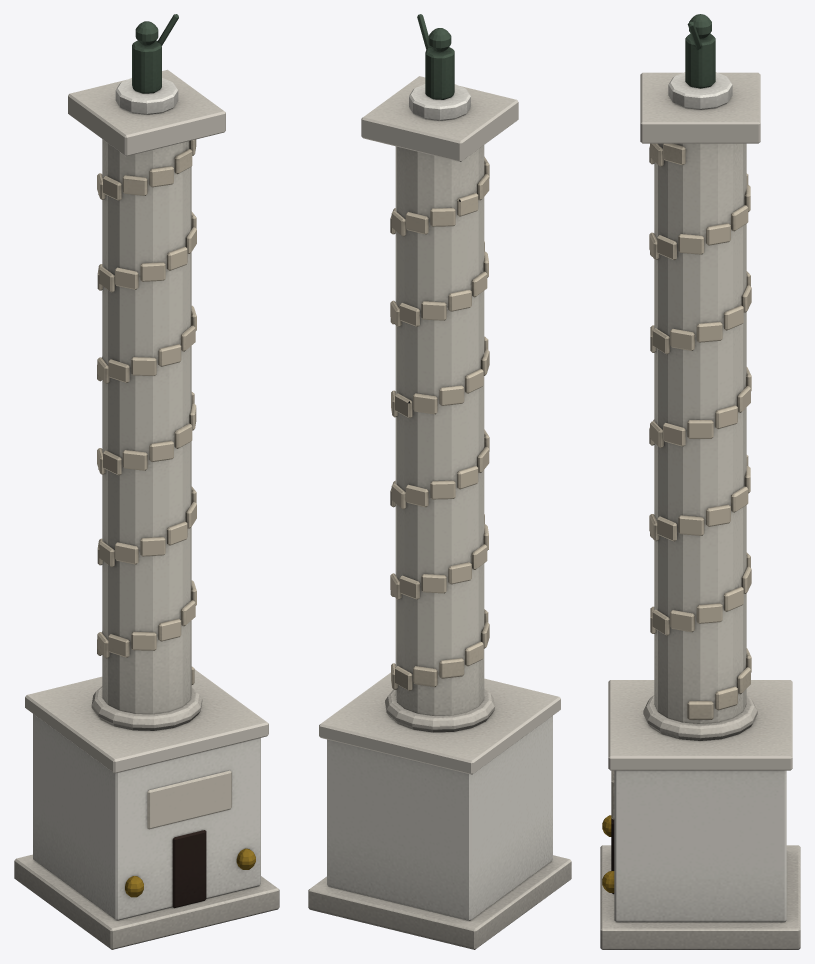
File: kolumna_trajana.glb
The picture shows the model from 3 angles, left to right: view 1: azimuth 30°, elevation 25°; view 2: azimuth 150°, elevation 25°; view 3: azimuth 270°, elevation 25°; orthographic projection. The views are drawn at different scales.
Visible parts, largest first — view 1: kolumna_trajana; view 2: kolumna_trajana; view 3: kolumna_trajana.
Part boxes in pixels (x1,y1,x2,y2): kolumna_trajana: [14, 14, 279, 949]; kolumna_trajana: [308, 14, 571, 949]; kolumna_trajana: [600, 14, 800, 949].
Size of the model in its own units: 1 by 4.95 by 1.
Materials: 1 (1 with a texture image).
